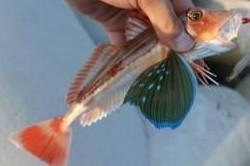fish: (8, 6, 243, 165)
